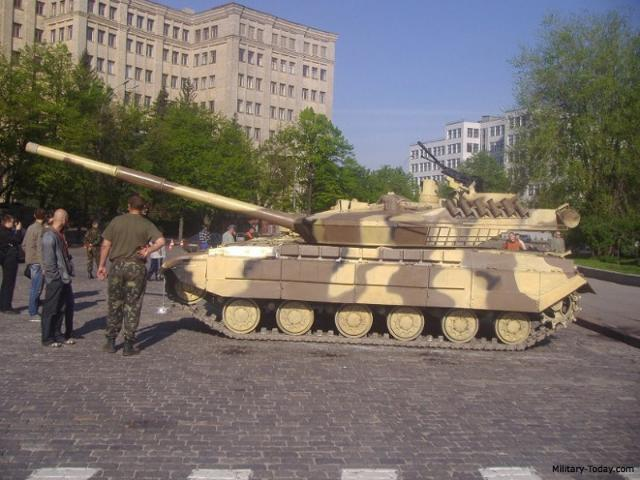other: (102, 194, 160, 356), (42, 206, 66, 347), (22, 213, 44, 320), (0, 211, 22, 313), (82, 221, 100, 278), (220, 218, 238, 248)
tank: (190, 189, 590, 349)
